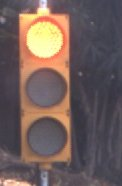Red: (15, 10, 78, 166)
